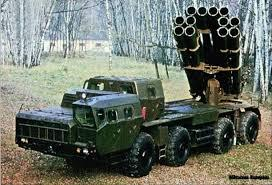MIL_SAM_TEL: (15, 5, 263, 176)
